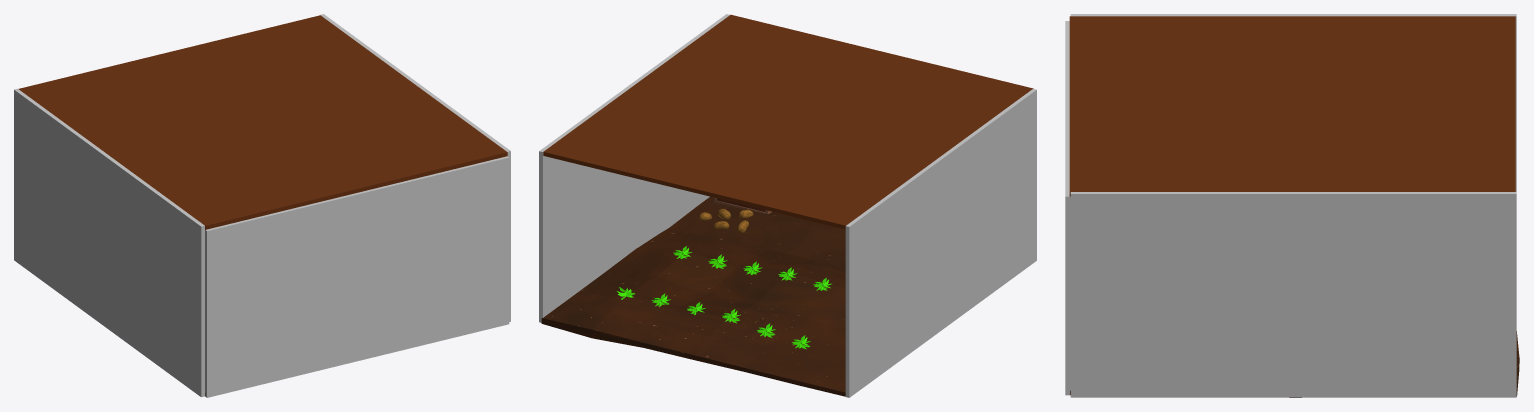
The model's file is FarmRoom1_3.fbx.
3 renders of one model, left to right at view 1: azimuth 30°, elevation 25°; view 2: azimuth 150°, elevation 25°; view 3: azimuth 270°, elevation 25°, orthographic. The views are drawn at different scales.
Parts seen in each view (by area): view 1: DirtyCeiling.005, SideWall1.036, SideWall1.034, SideWall1.035; view 2: DirtyCeiling.005, DirtyGround.005, SideWall1.034, SideWall1.035, PotatoPlantPart.001; view 3: SideWall1.035, DirtyCeiling.005, SideWall1.036, SideWall1.034.
Part boxes in pixels (box(x1,y1,x2,y2)): DirtyCeiling.005: box(18, 15, 507, 229); SideWall1.036: box(205, 156, 509, 397); SideWall1.034: box(14, 88, 204, 397); SideWall1.035: box(320, 14, 510, 321); DirtyCeiling.005: box(543, 14, 1033, 229); DirtyGround.005: box(541, 196, 845, 396); SideWall1.034: box(845, 89, 1036, 397); SideWall1.035: box(539, 14, 729, 322); PotatoPlantPart.001: box(617, 246, 832, 349); SideWall1.035: box(1070, 192, 1516, 397); DirtyCeiling.005: box(1069, 16, 1515, 196); SideWall1.036: box(1065, 21, 1070, 395); SideWall1.034: box(1070, 14, 1516, 191).
Bounding box in the file's own units: 517 × 278 × 551.
